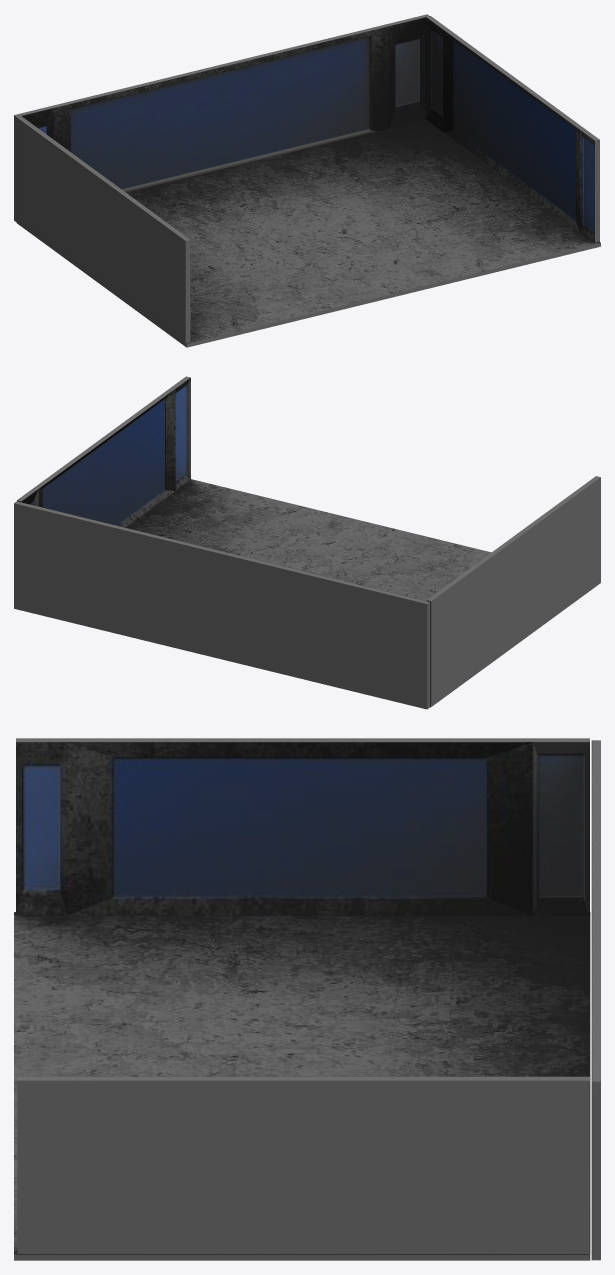
File: ATO6.fbx
The picture shows the model from 3 angles, top to bottom: view 1: azimuth 30°, elevation 25°; view 2: azimuth 150°, elevation 25°; view 3: azimuth 270°, elevation 25°; orthographic projection. The views are drawn at different scales.
Parts seen in each view (by area): view 1: polySurface1, polySurface2, polySurface4, polySurface3; view 2: polySurface2, polySurface1, polySurface4, polySurface3; view 3: polySurface4, polySurface3, polySurface1, polySurface2.
Boxes of the visible parts, box(x1,y1,x2,y2) form: polySurface1: box(16, 119, 600, 347); polySurface2: box(14, 14, 429, 222); polySurface4: box(16, 116, 190, 343); polySurface3: box(426, 16, 599, 243); polySurface2: box(14, 501, 429, 709); polySurface1: box(126, 479, 600, 707); polySurface4: box(426, 476, 600, 703); polySurface3: box(17, 376, 190, 527); polySurface4: box(16, 738, 589, 915); polySurface3: box(17, 1076, 589, 1253); polySurface1: box(14, 912, 590, 1260); polySurface2: box(591, 740, 600, 1260).
Bounding box in the file's own units: 32.52 × 7.97 × 23.55.
1 material, 1 textured.
